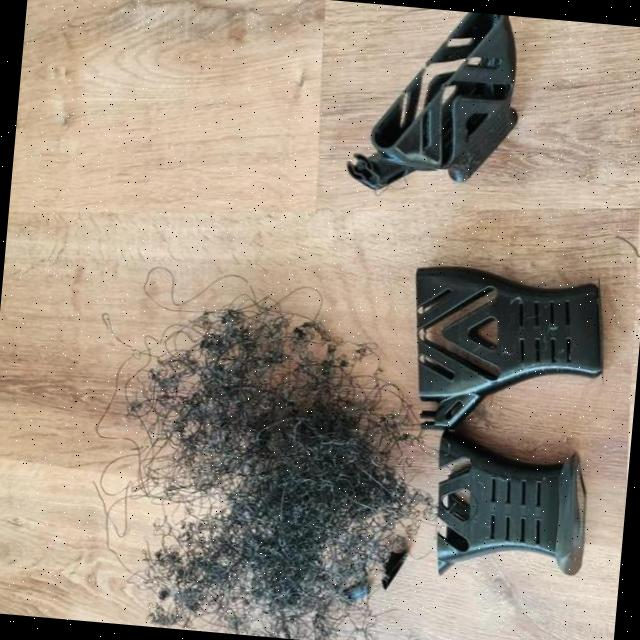spaghetti: (194, 386, 394, 630), (126, 342, 224, 488), (201, 296, 338, 398), (141, 532, 204, 626)
